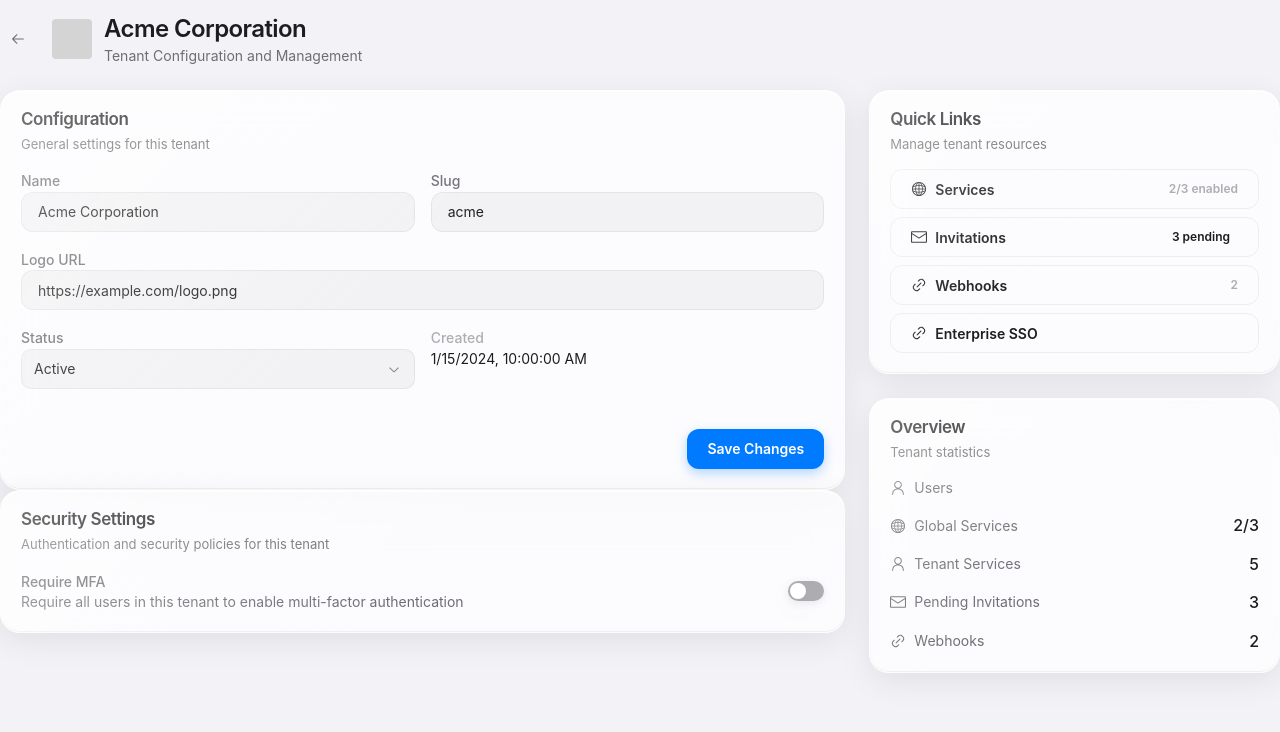
Test: Tenant Detail Page › feedback messages › displays error message from action
This screenshot has width=1280, height=732.
Expected: the field labelled "Name" is shown, [21,192,415,232]
Click the button "Save Changes" at [756, 449], box [687,429,824,469]
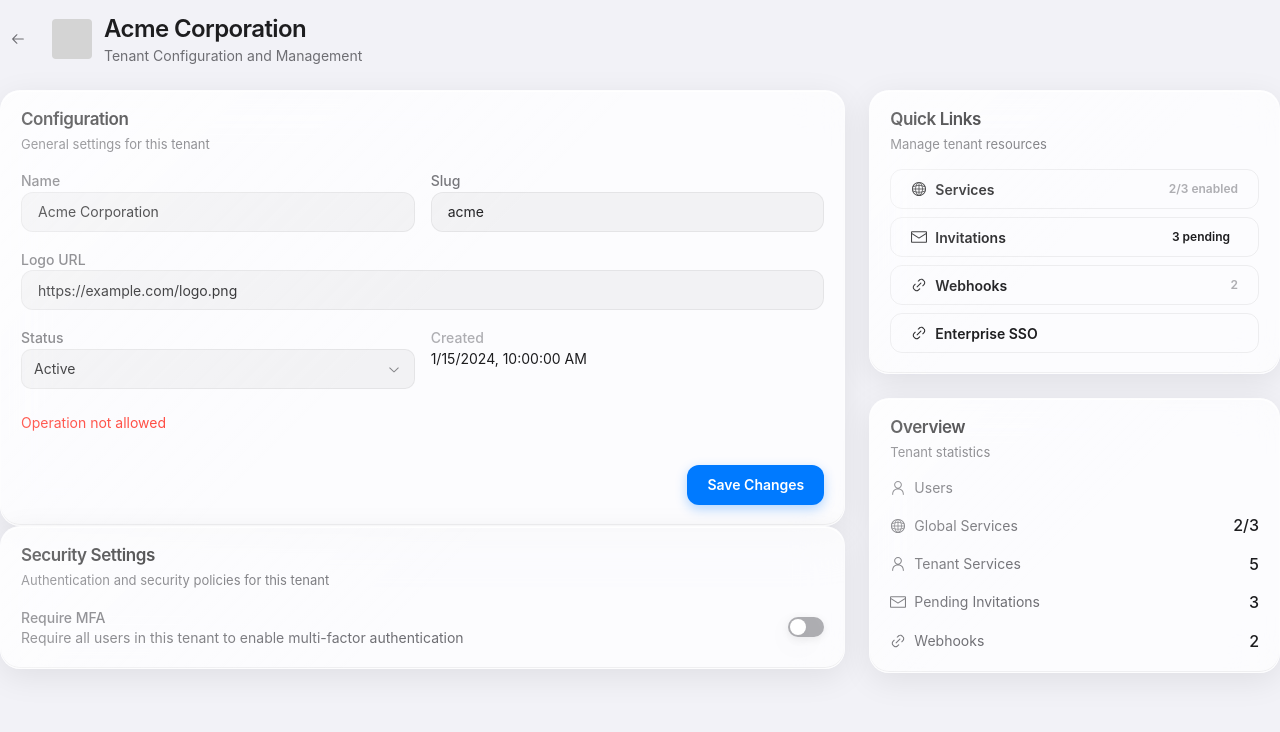
Result: the text "Operation not allowed" is shown at [21,414,166,431]
